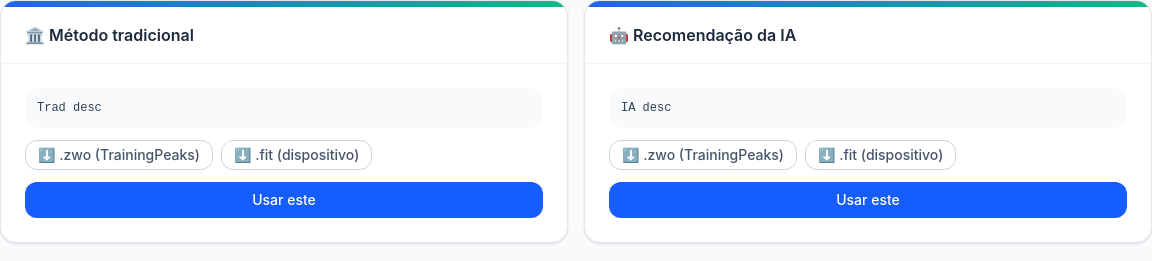
Test case: ComparativeWorkouts › após escolher, marca o card escolhido e trava o outro
Click the button "Usar este" below "Trad desc" at point(284, 200), box [25,182,543,218]
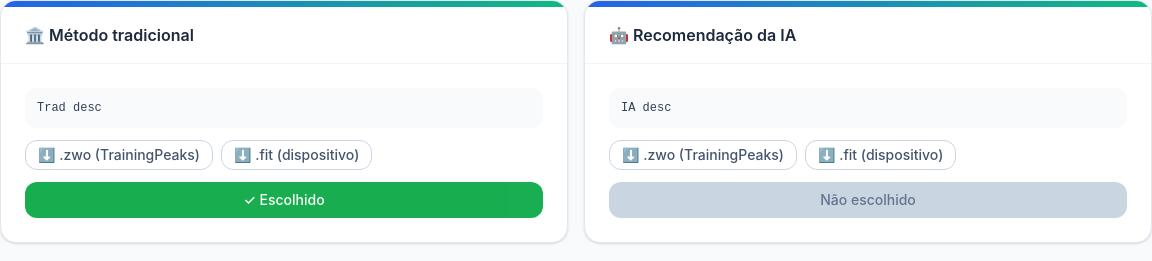
expect the button "✓ Escolhido" is shown: met, box [25,182,543,218]
expect the button "Não escolhido" is shown: met, box [609,182,1127,218]
